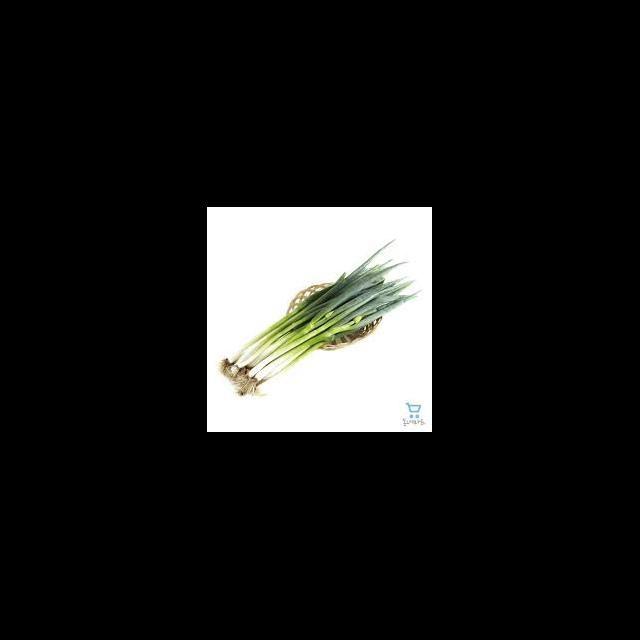green_onion: (222, 240, 418, 396)
